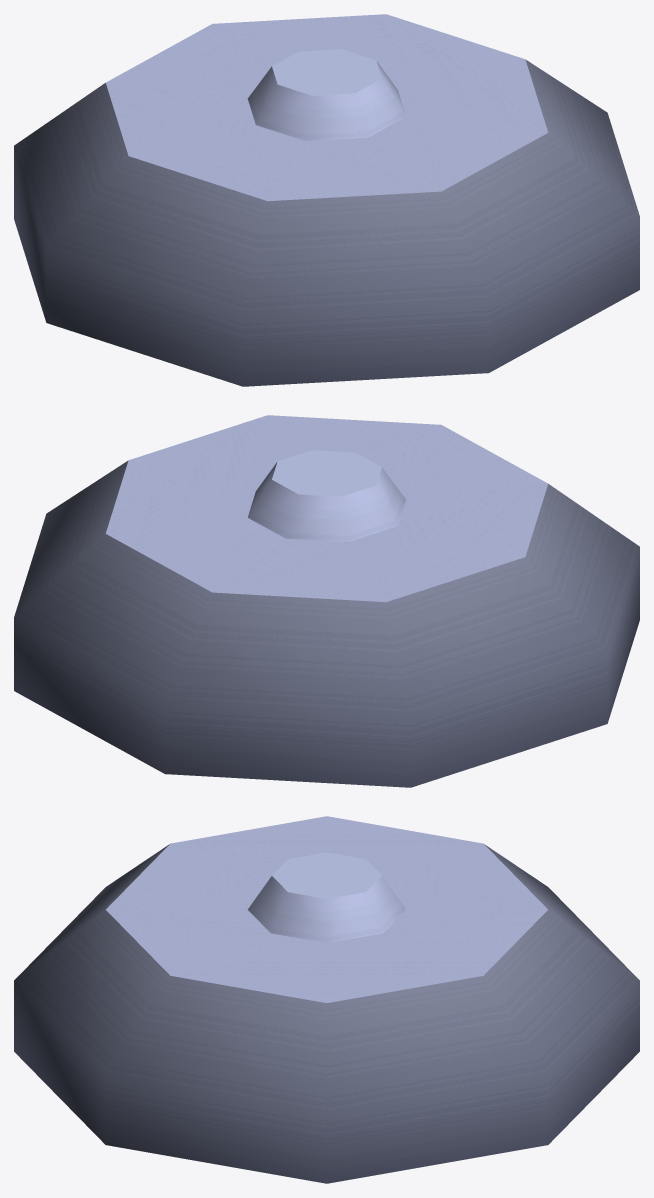
File: weapon-shield.glb
3 renders of one model, top to bottom at view 1: azimuth 30°, elevation 25°; view 2: azimuth 150°, elevation 25°; view 3: azimuth 270°, elevation 25°, orthographic. The views are drawn at different scales.
Parts seen in each view (by area): view 1: weapon-shield; view 2: weapon-shield; view 3: weapon-shield.
Boxes of the visible parts, box(x1,y1,x2,y2) form: weapon-shield: box(14, 14, 639, 386); weapon-shield: box(14, 415, 639, 787); weapon-shield: box(14, 816, 639, 1183).
Bounding box in the file's own units: 0.4 × 0.124 × 0.4.
1 material, 1 textured.
